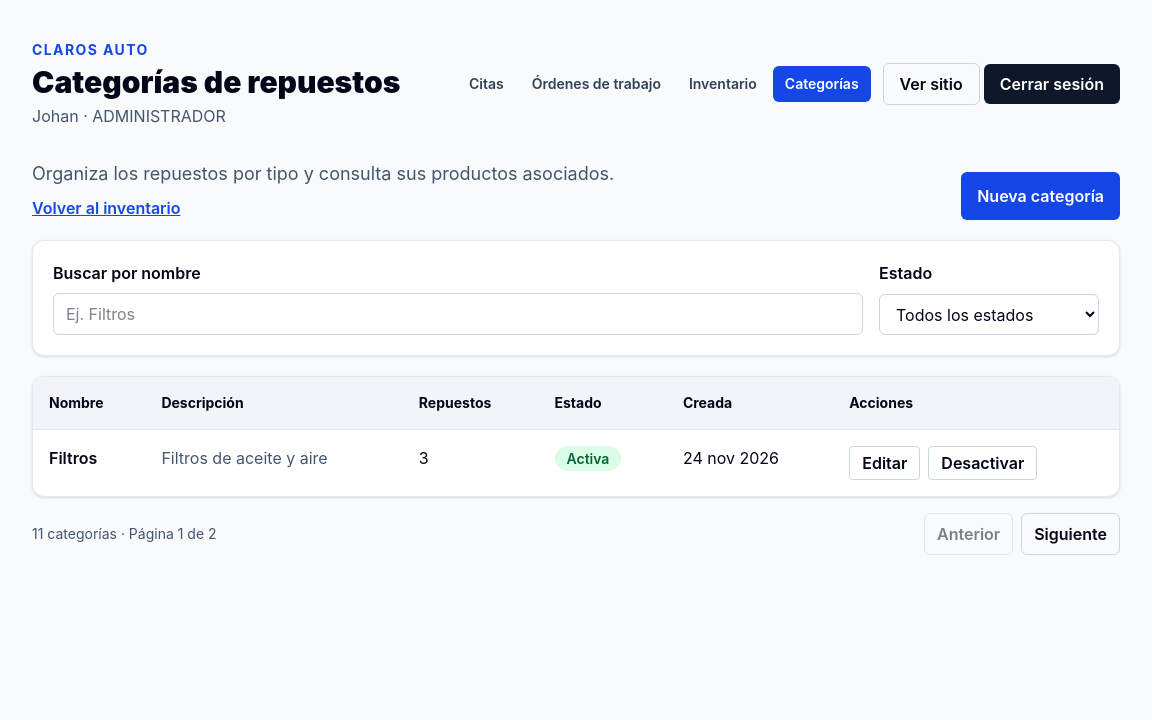
it: página de categorías de repuestos › cambia de página usando la paginación que devuelve el backend
Expected: the text "Filtros" is shown, [33,430,145,496]
Click the button "Siguiente" at (1071, 534), box [1021,513,1120,555]
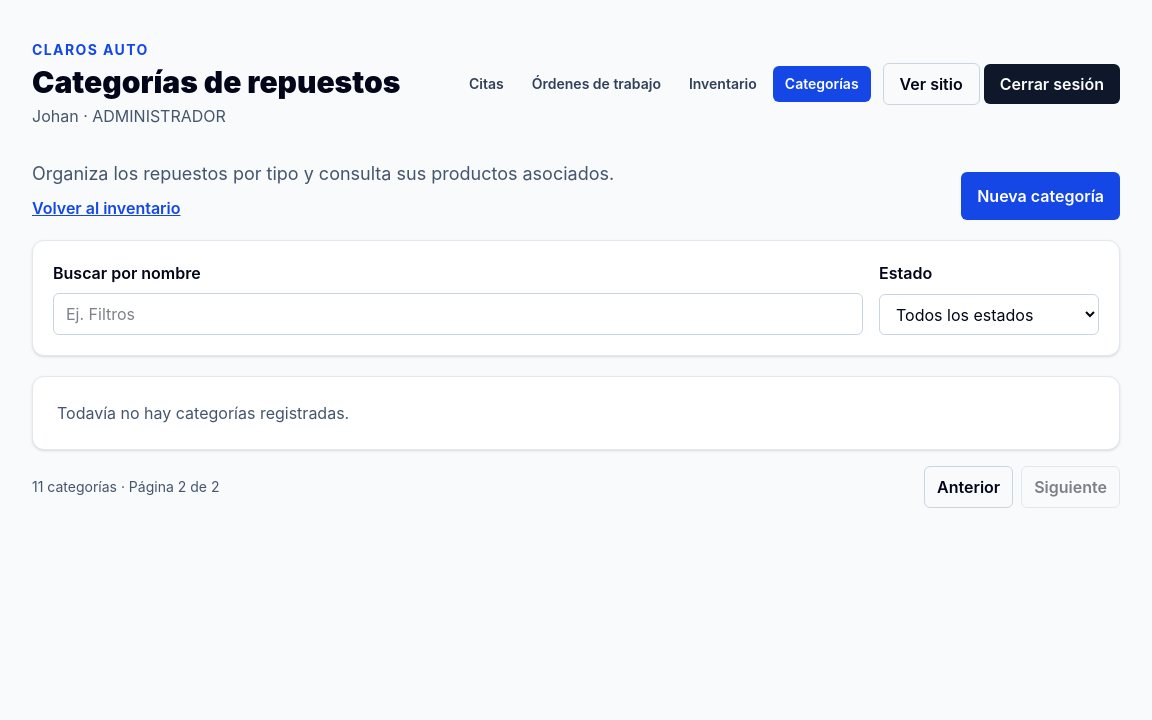
Now the navigation bar named "Paginación de categorías" shows "Página 2 de 2", box [32,466,1120,508]
